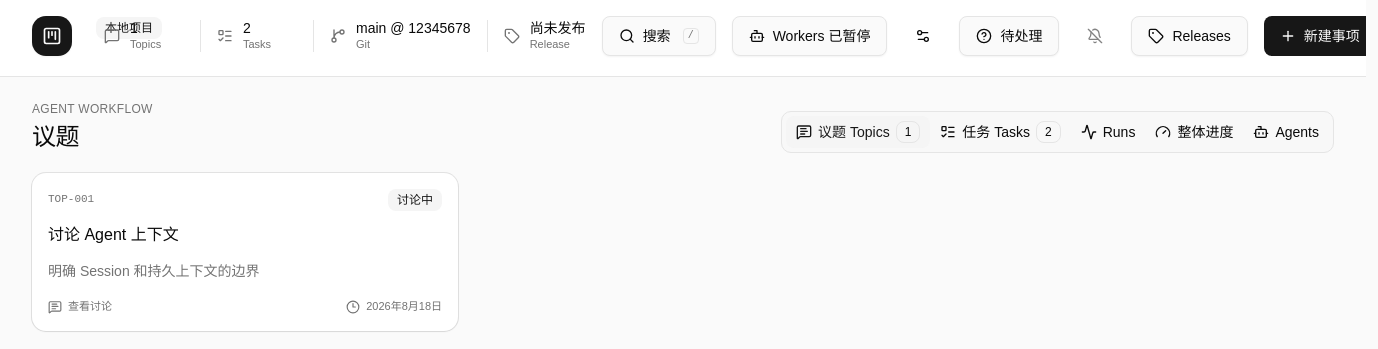
Test: App › 在项目顶部通过全局开关启动 Workers
The image size is (1378, 349).
Expected: the text "讨论 Agent 上下文" is shown, [48,226,179,243]
Click the button with aria-label "启动 Workers" at (810, 36), box [732,16,887,56]
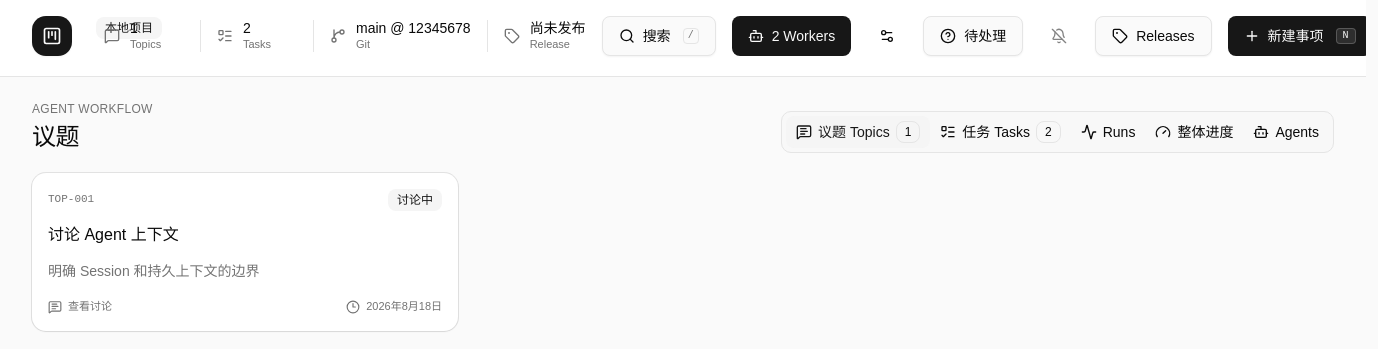
Now the button with aria-label "暂停 Workers" is shown, box [732,16,851,56]
